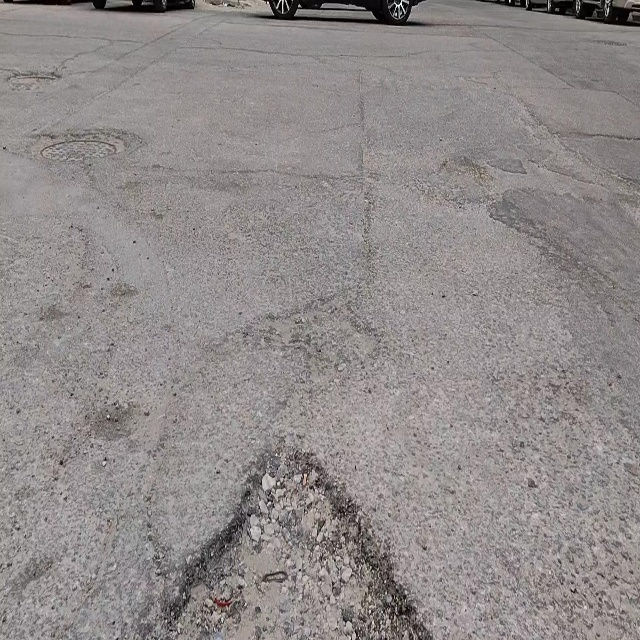pothole: (164, 443, 428, 639)
